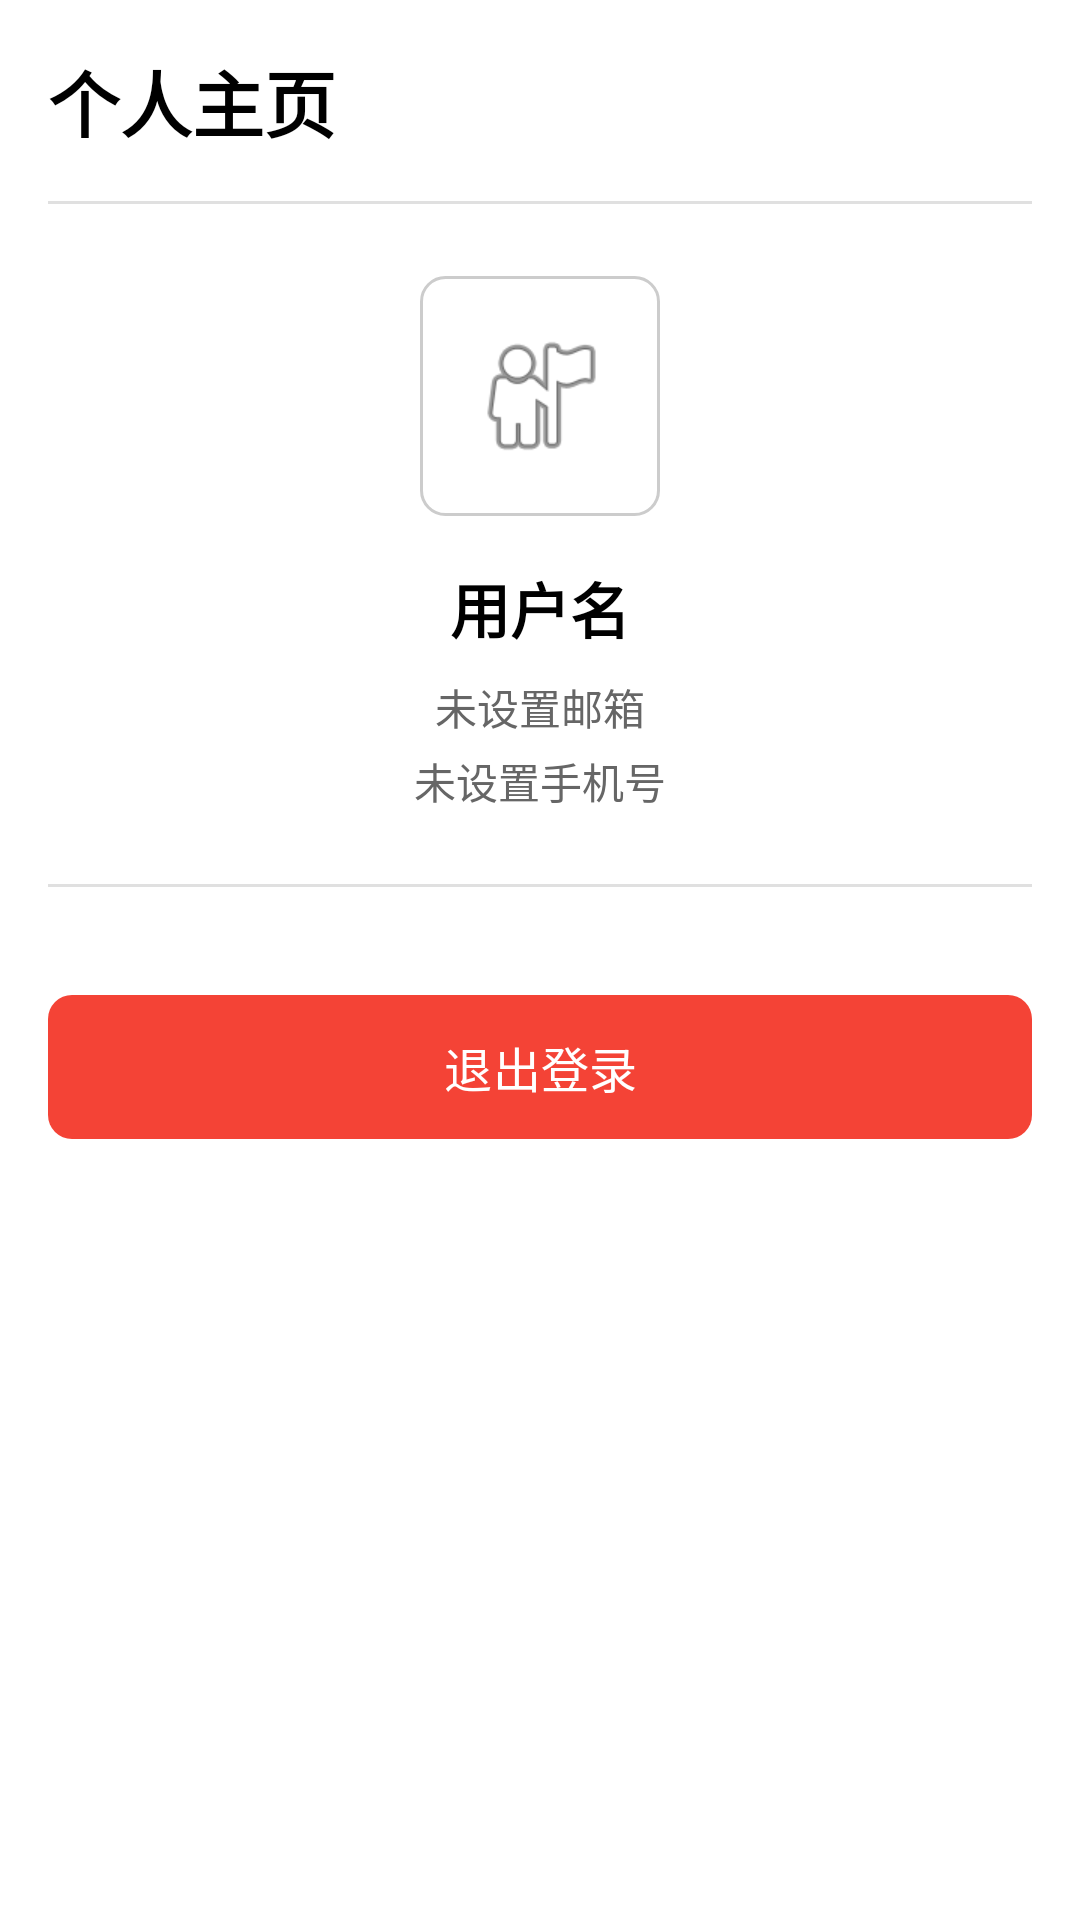

Icon bounding boxes for this 1080×1920 phone screenshot, format bbox=[x1, y1, x2, y2]:
头像: bbox=[420, 276, 660, 516]
